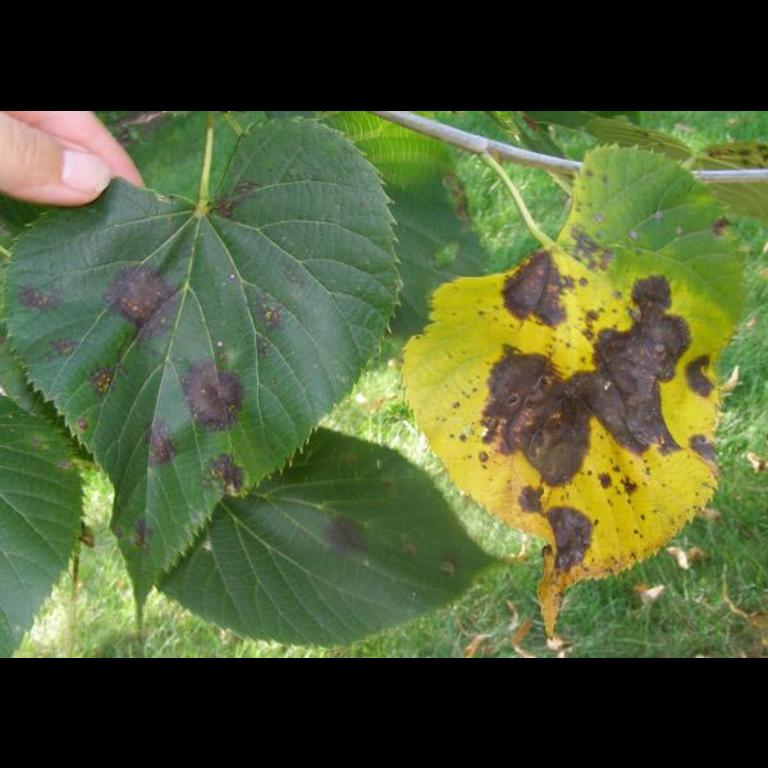blight: (474, 256, 710, 514), (95, 264, 257, 452)
